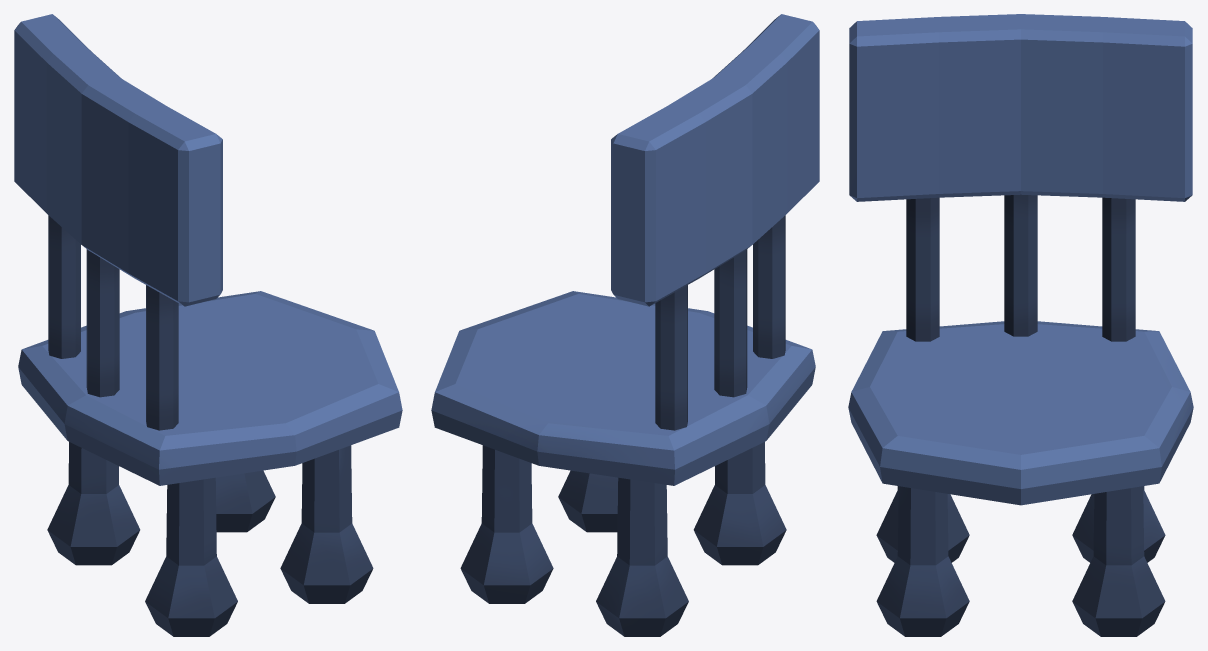
File: KChair1.fbx
3 views of the same model, side by side, from view 1: azimuth 30°, elevation 25°; view 2: azimuth 150°, elevation 25°; view 3: azimuth 270°, elevation 25° (orthographic).
Parts seen in each view (by area): view 1: Circle; view 2: Circle; view 3: Circle.
Boxes of the visible parts, bbox=[...] form: Circle: bbox=[14, 14, 402, 636]; Circle: bbox=[431, 14, 819, 636]; Circle: bbox=[848, 14, 1193, 636].
Bounding box in the file's own units: 185 × 292 × 176.
Materials: 1 (1 with a texture image).
